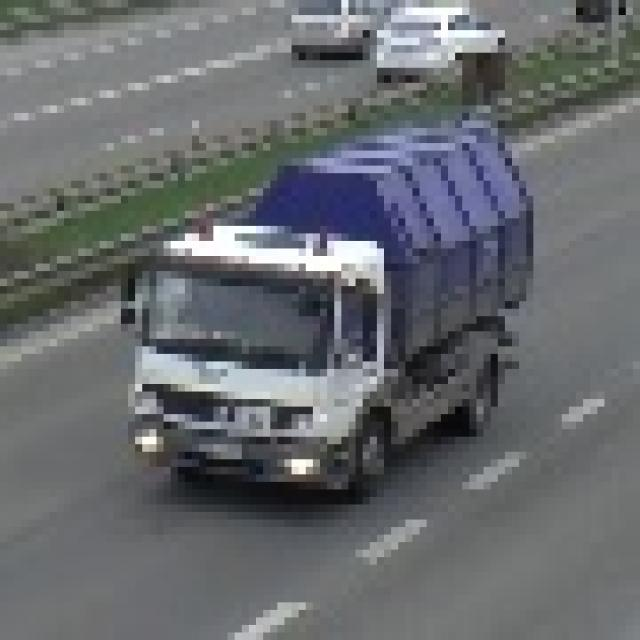truck: (121, 120, 533, 490)
